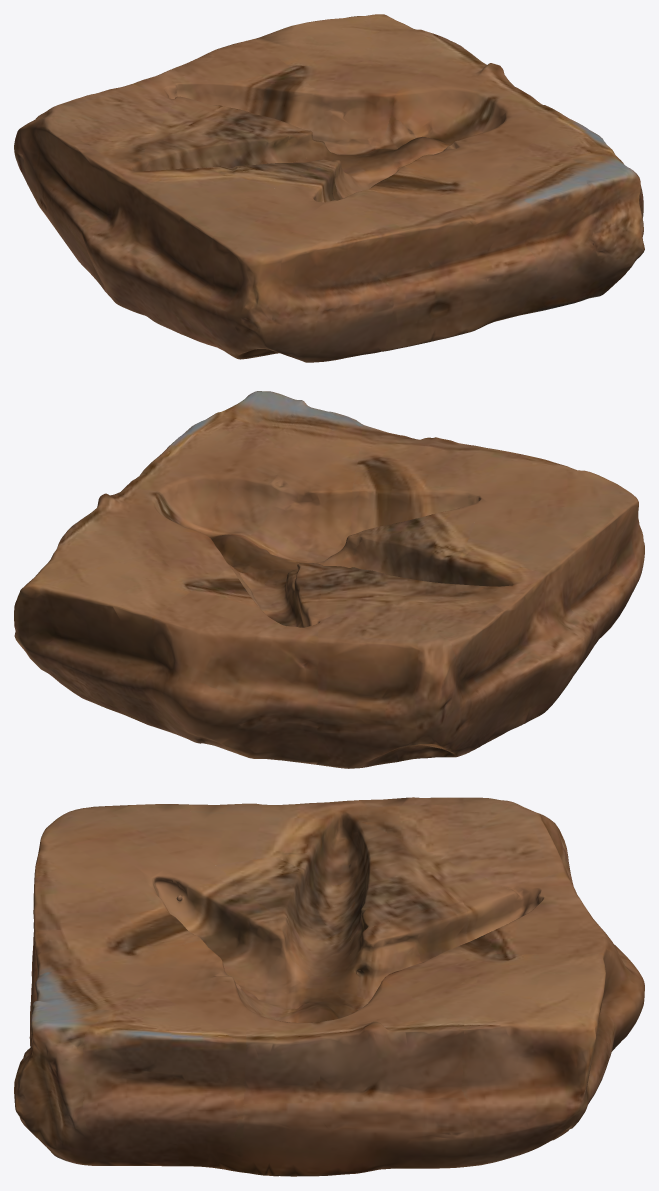
File: footprint.glb
3 renders of one model, top to bottom at view 1: azimuth 30°, elevation 25°; view 2: azimuth 150°, elevation 25°; view 3: azimuth 270°, elevation 25°, orthographic. The views are drawn at different scales.
Parts seen in each view (by area): view 1: tripo_node_0faa8f52-b60d-4f82-8b5b-4add3f0330cb; view 2: tripo_node_0faa8f52-b60d-4f82-8b5b-4add3f0330cb; view 3: tripo_node_0faa8f52-b60d-4f82-8b5b-4add3f0330cb.
Boxes of the visible parts, x1,y1,x2,y2 form: tripo_node_0faa8f52-b60d-4f82-8b5b-4add3f0330cb: [14, 14, 644, 362]; tripo_node_0faa8f52-b60d-4f82-8b5b-4add3f0330cb: [14, 391, 644, 768]; tripo_node_0faa8f52-b60d-4f82-8b5b-4add3f0330cb: [14, 797, 644, 1176].
Size of the model in its own units: 0.1538 by 0.0424 by 0.16.
1 material, 1 textured.
